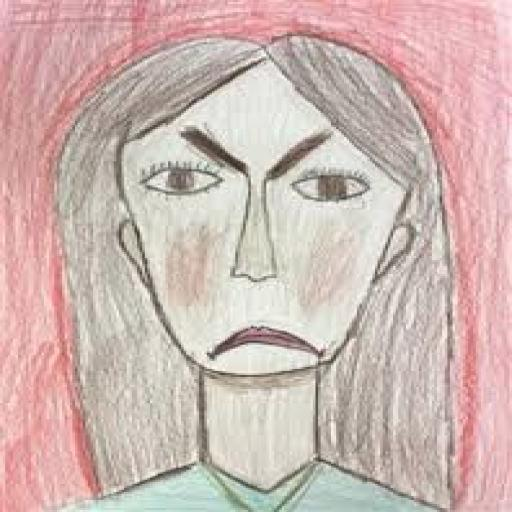person: (38, 25, 469, 510)
